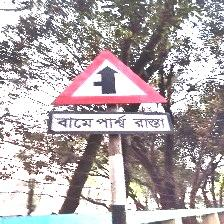Side-road-left: (49, 49, 173, 136)
